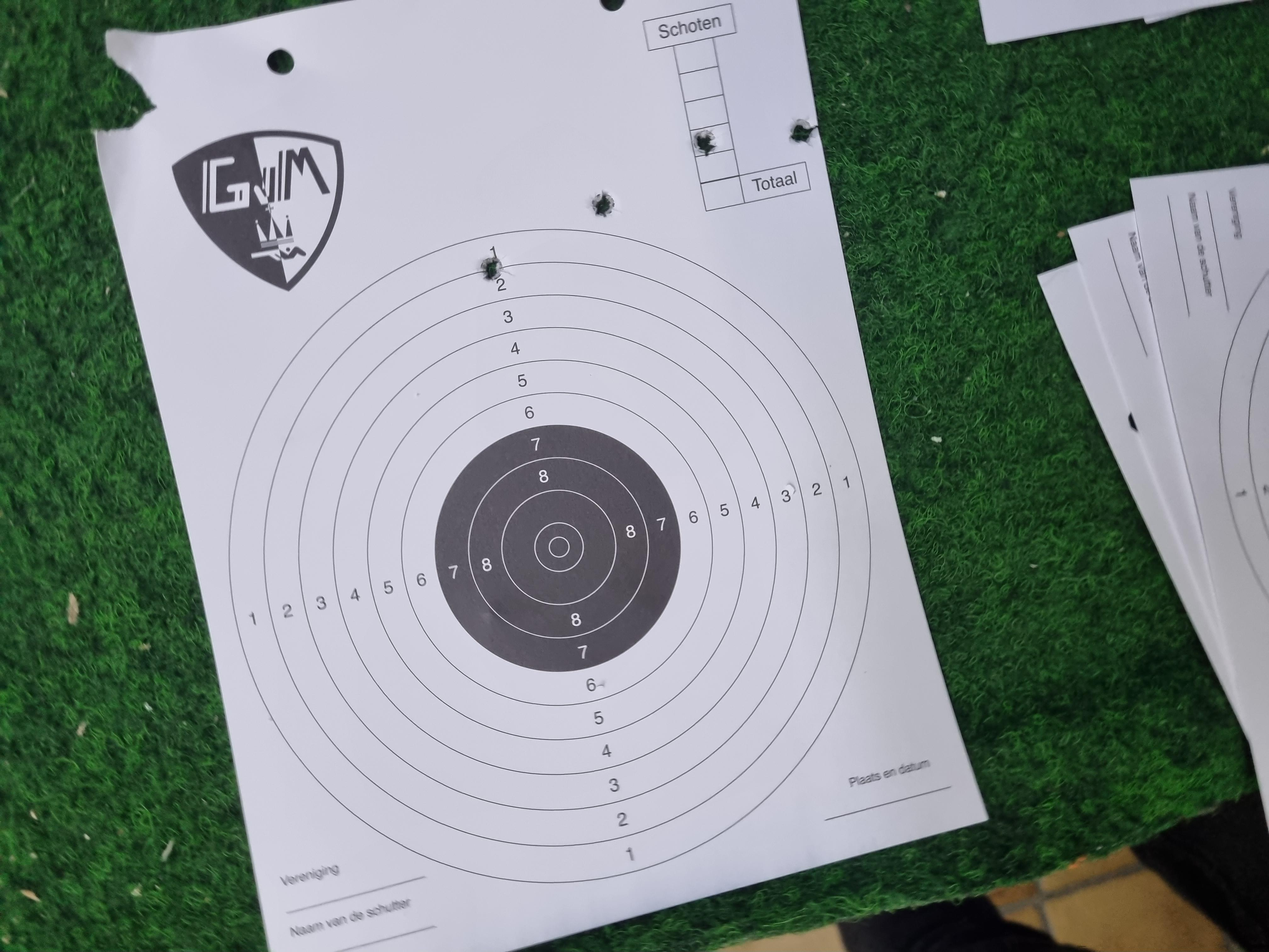hole: (330, 569, 385, 592), (252, 490, 291, 512), (170, 413, 210, 434), (159, 342, 194, 361)
